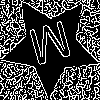M: (26, 20, 77, 75)
